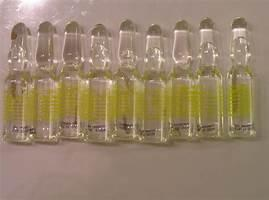Syringe: (138, 17, 170, 154), (0, 19, 32, 151), (192, 11, 224, 143), (83, 16, 114, 147), (31, 19, 61, 146), (229, 14, 256, 142)
